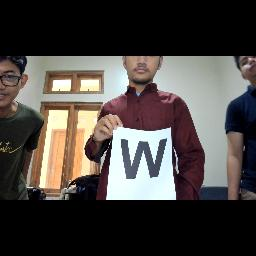w: (119, 133, 169, 181)
